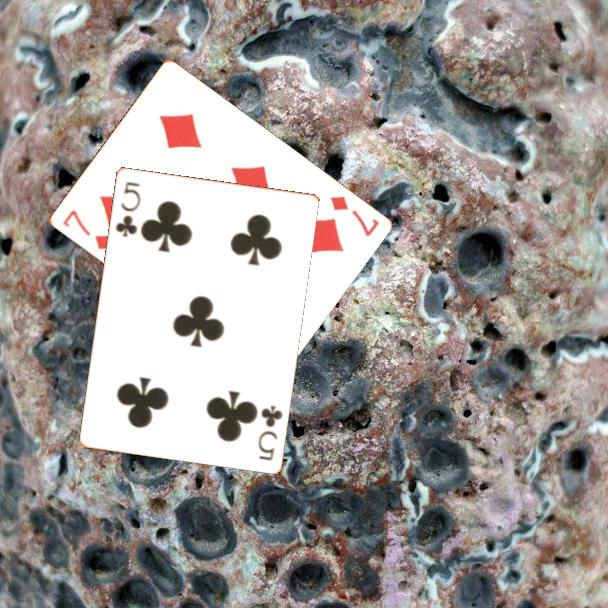c05: (112, 178, 143, 240), (254, 402, 285, 463)
d07: (59, 206, 115, 253), (326, 192, 382, 239)
